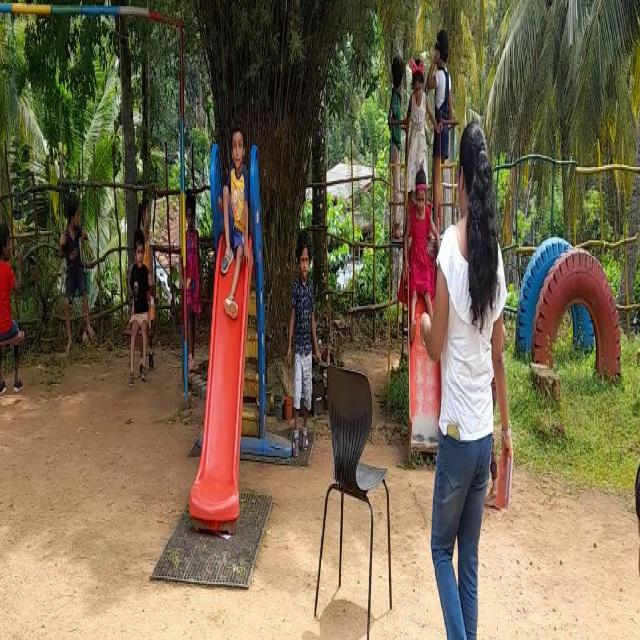adult: (432, 120, 515, 640)
child: (222, 128, 255, 322), (287, 237, 319, 433), (124, 221, 155, 375), (61, 180, 89, 350), (431, 6, 454, 194), (405, 172, 432, 332), (0, 214, 16, 387), (389, 54, 405, 224)
